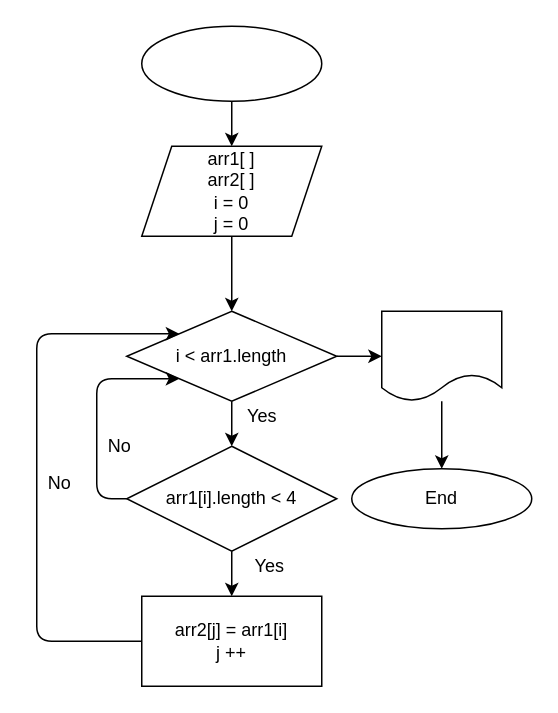
This 558x713 diagram has some shape labels left out. Each missing label, with the centre of its shape:
"print arr2[ ]" goes at point 441,355.
"Start" goes at point 231,63.
